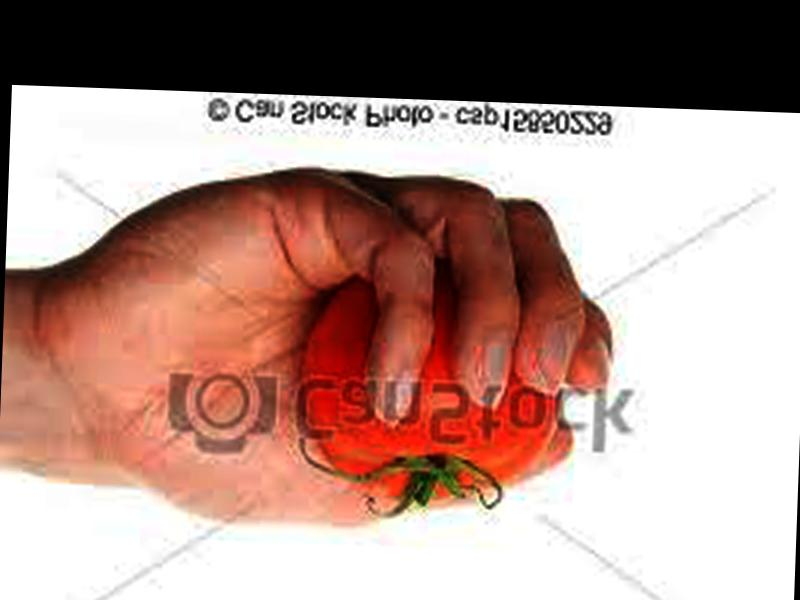Tomato: (303, 263, 563, 504)
